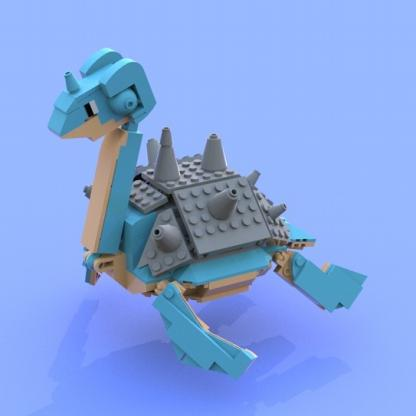Lapras: (1, 31, 384, 389)
